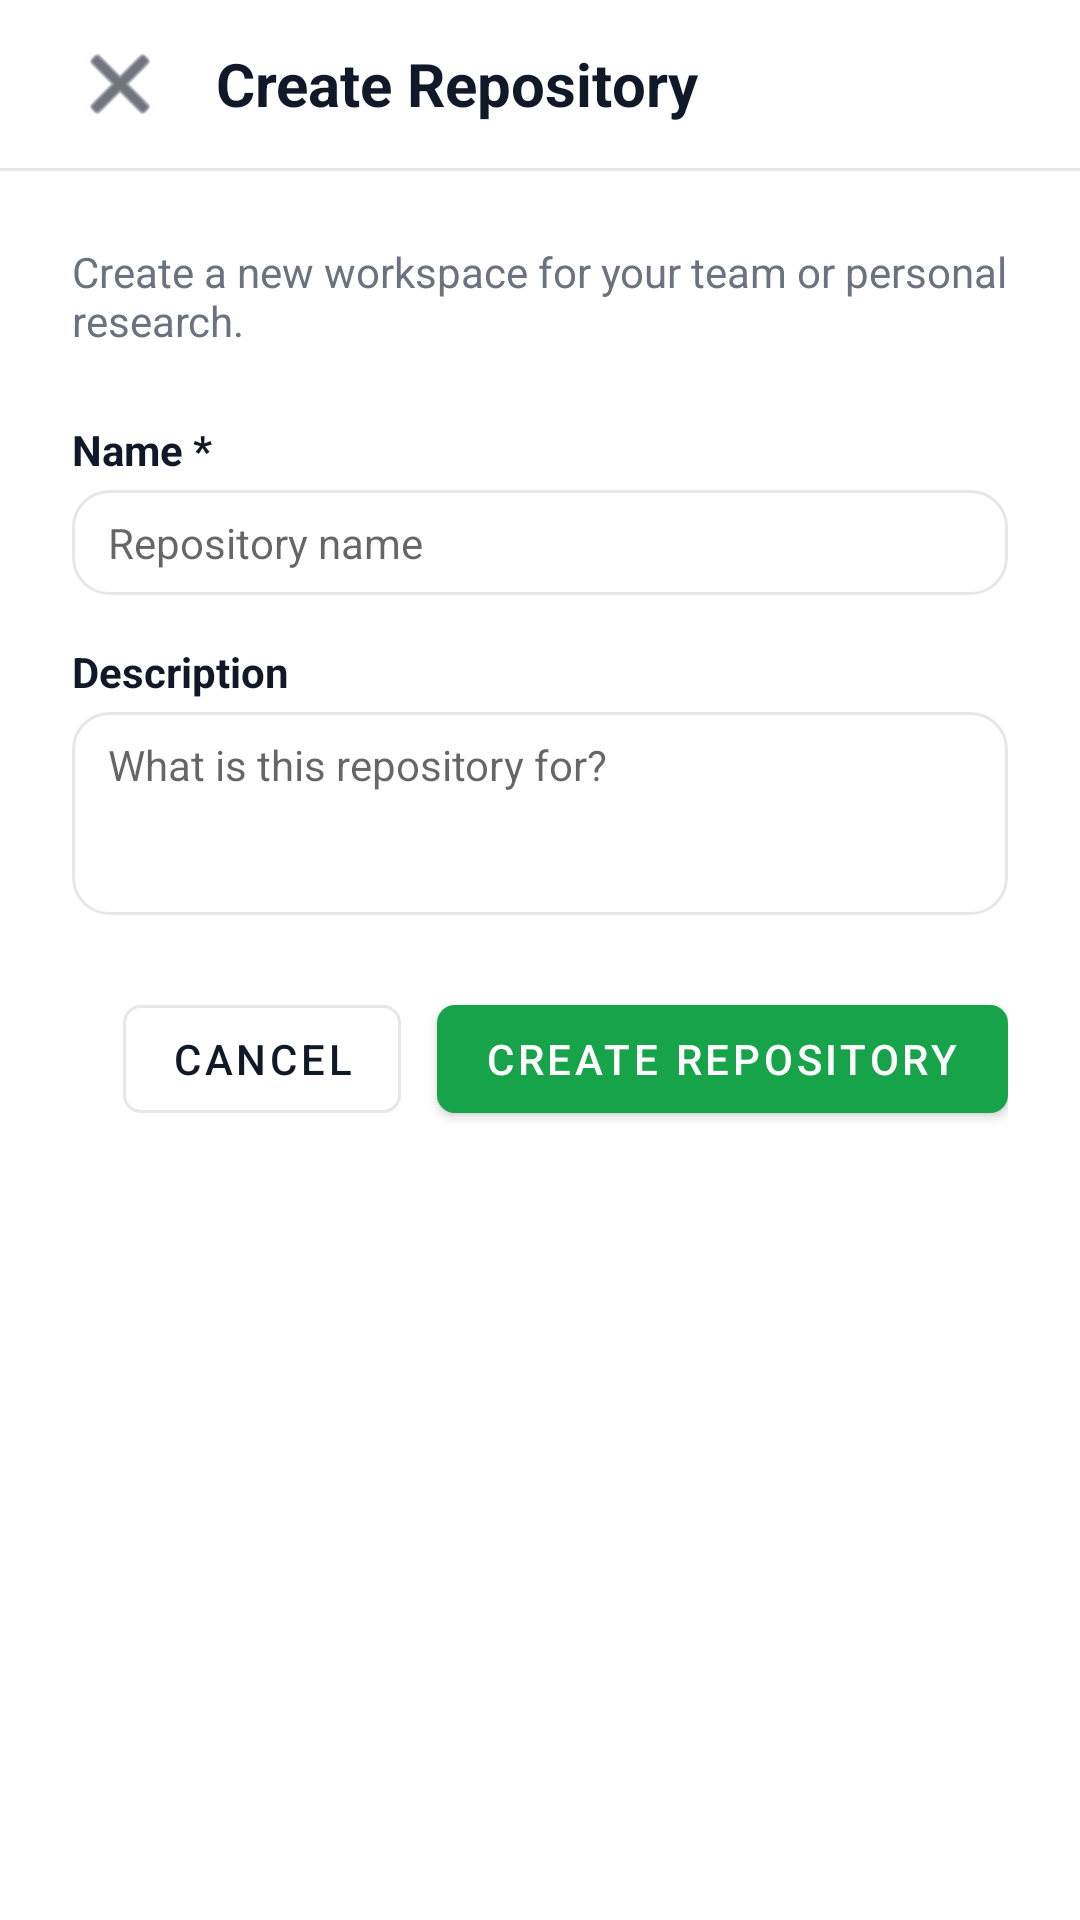

Icons on this 1080px×1920px Android screen, each with its box as {"x1": x1, "y1": y1, "x2": x2, "y2": y2}:
close clear cancel: {"x1": 90, "y1": 54, "x2": 150, "y2": 114}
